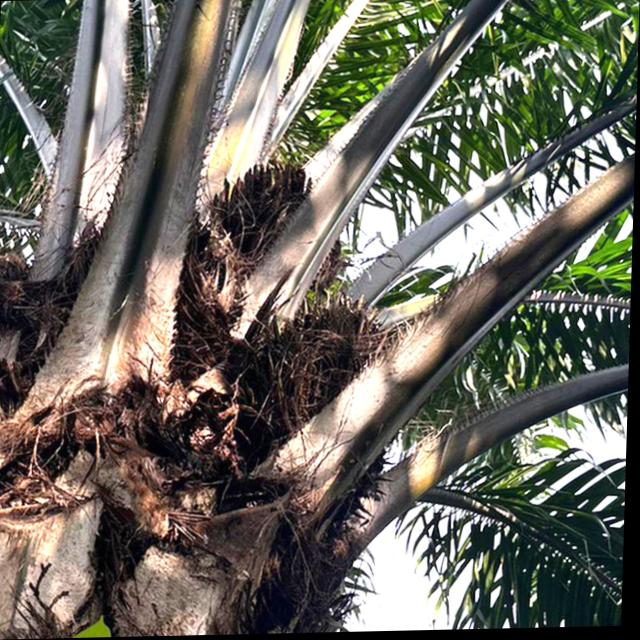ripe: (266, 289, 387, 416)
